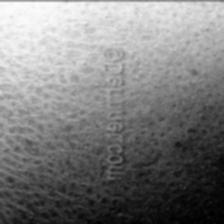Non-Cancerous Skin Condition: (0, 0, 78, 133), (134, 114, 224, 224), (142, 1, 224, 82)
